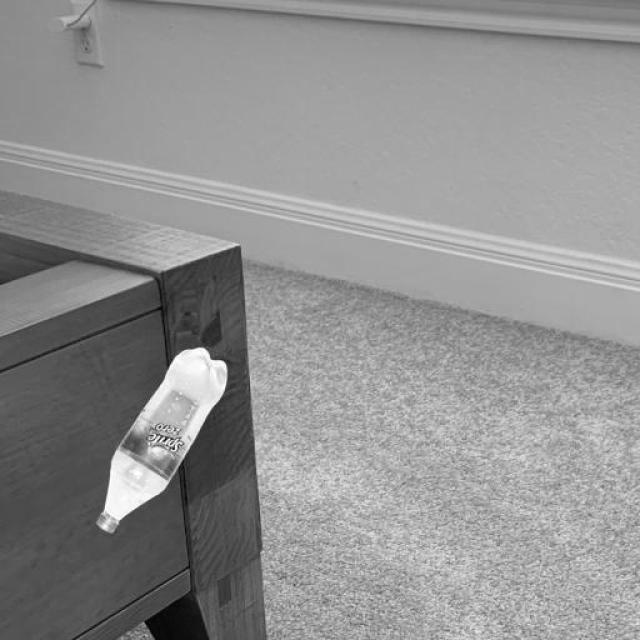bottle: (94, 345, 228, 535)
